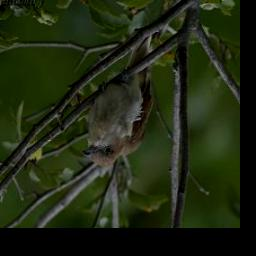Cuckoo: (82, 35, 156, 168)
